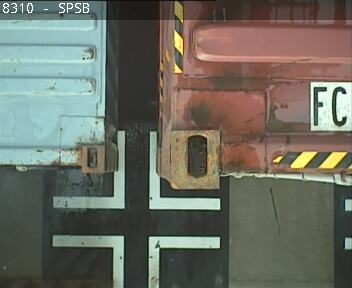groundmarker_1: (52, 130, 221, 212), (51, 235, 221, 288)
